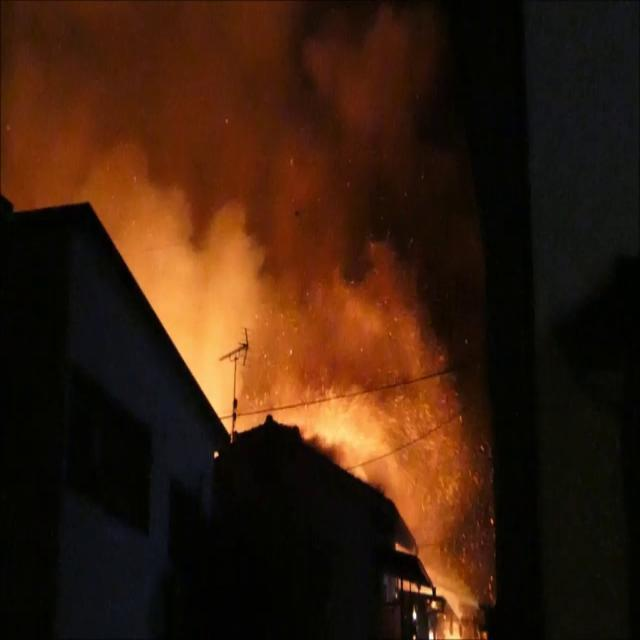Smoke: (1, 1, 480, 407)
